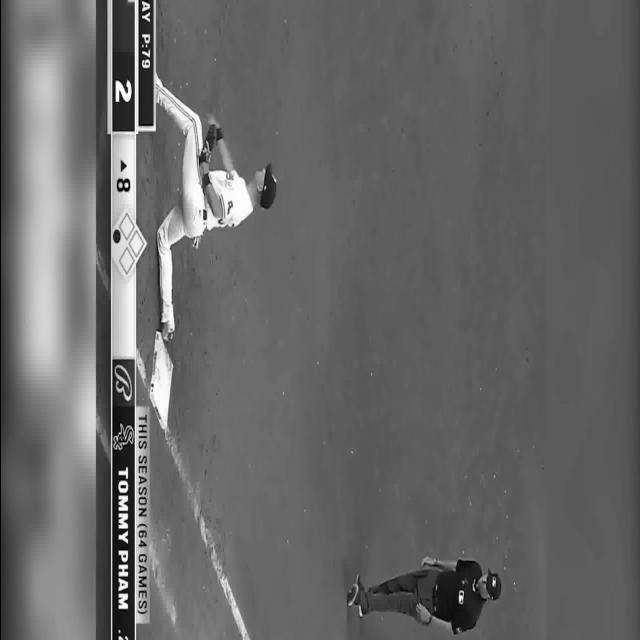base: (149, 331, 172, 429)
baseball_glove: (198, 124, 216, 164)
shoe: (160, 307, 174, 342), (346, 585, 361, 616), (355, 573, 362, 591), (356, 605, 362, 618)
